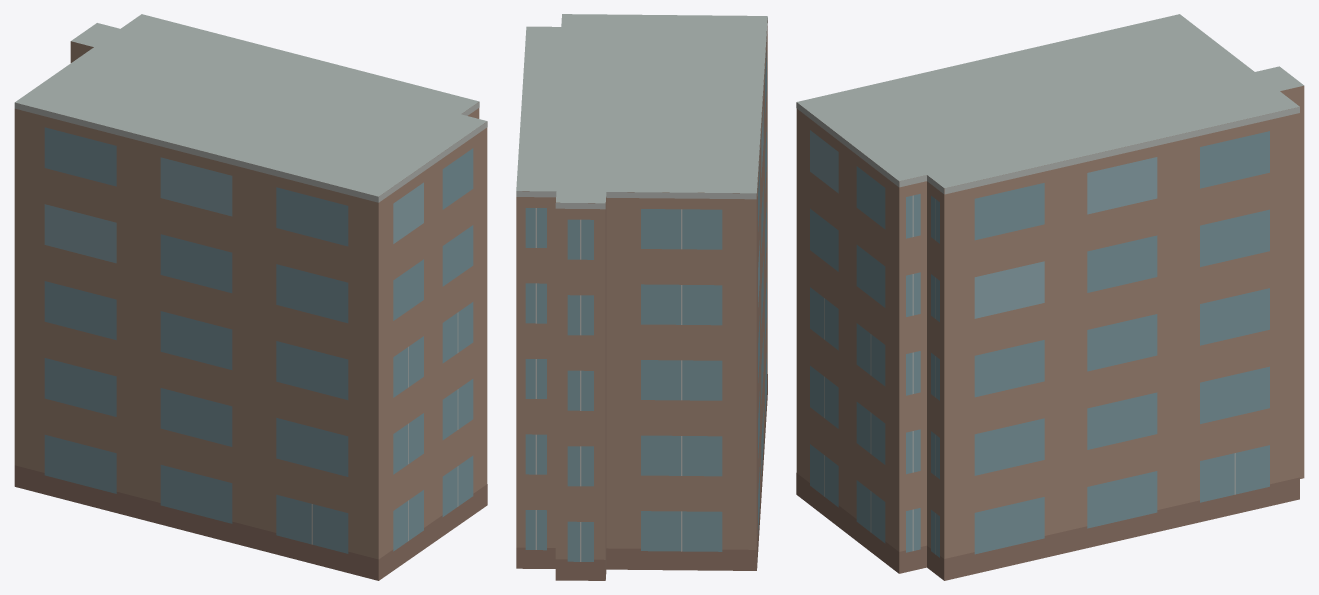
The model's file is survey-upis-32658310.glb.
3 views of the same model, side by side, from view 1: azimuth 30°, elevation 25°; view 2: azimuth 150°, elevation 25°; view 3: azimuth 270°, elevation 25° (orthographic). The views are drawn at different scales.
Visible parts, largest first — view 1: survey-upis-32658310.tmp; view 2: survey-upis-32658310.tmp; view 3: survey-upis-32658310.tmp.
Part boxes in pixels (left/top/right/bottom): survey-upis-32658310.tmp: left=14, top=14, right=487, bottom=580; survey-upis-32658310.tmp: left=516, top=14, right=767, bottom=580; survey-upis-32658310.tmp: left=796, top=14, right=1304, bottom=580.
Size of the model in its own units: 14.68 by 15.4 by 18.07.
